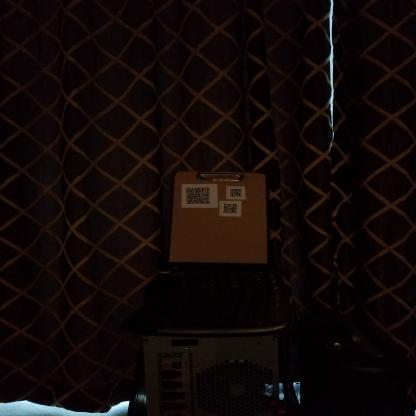qr: (183, 184, 214, 205), (221, 201, 238, 216), (229, 185, 246, 198)
